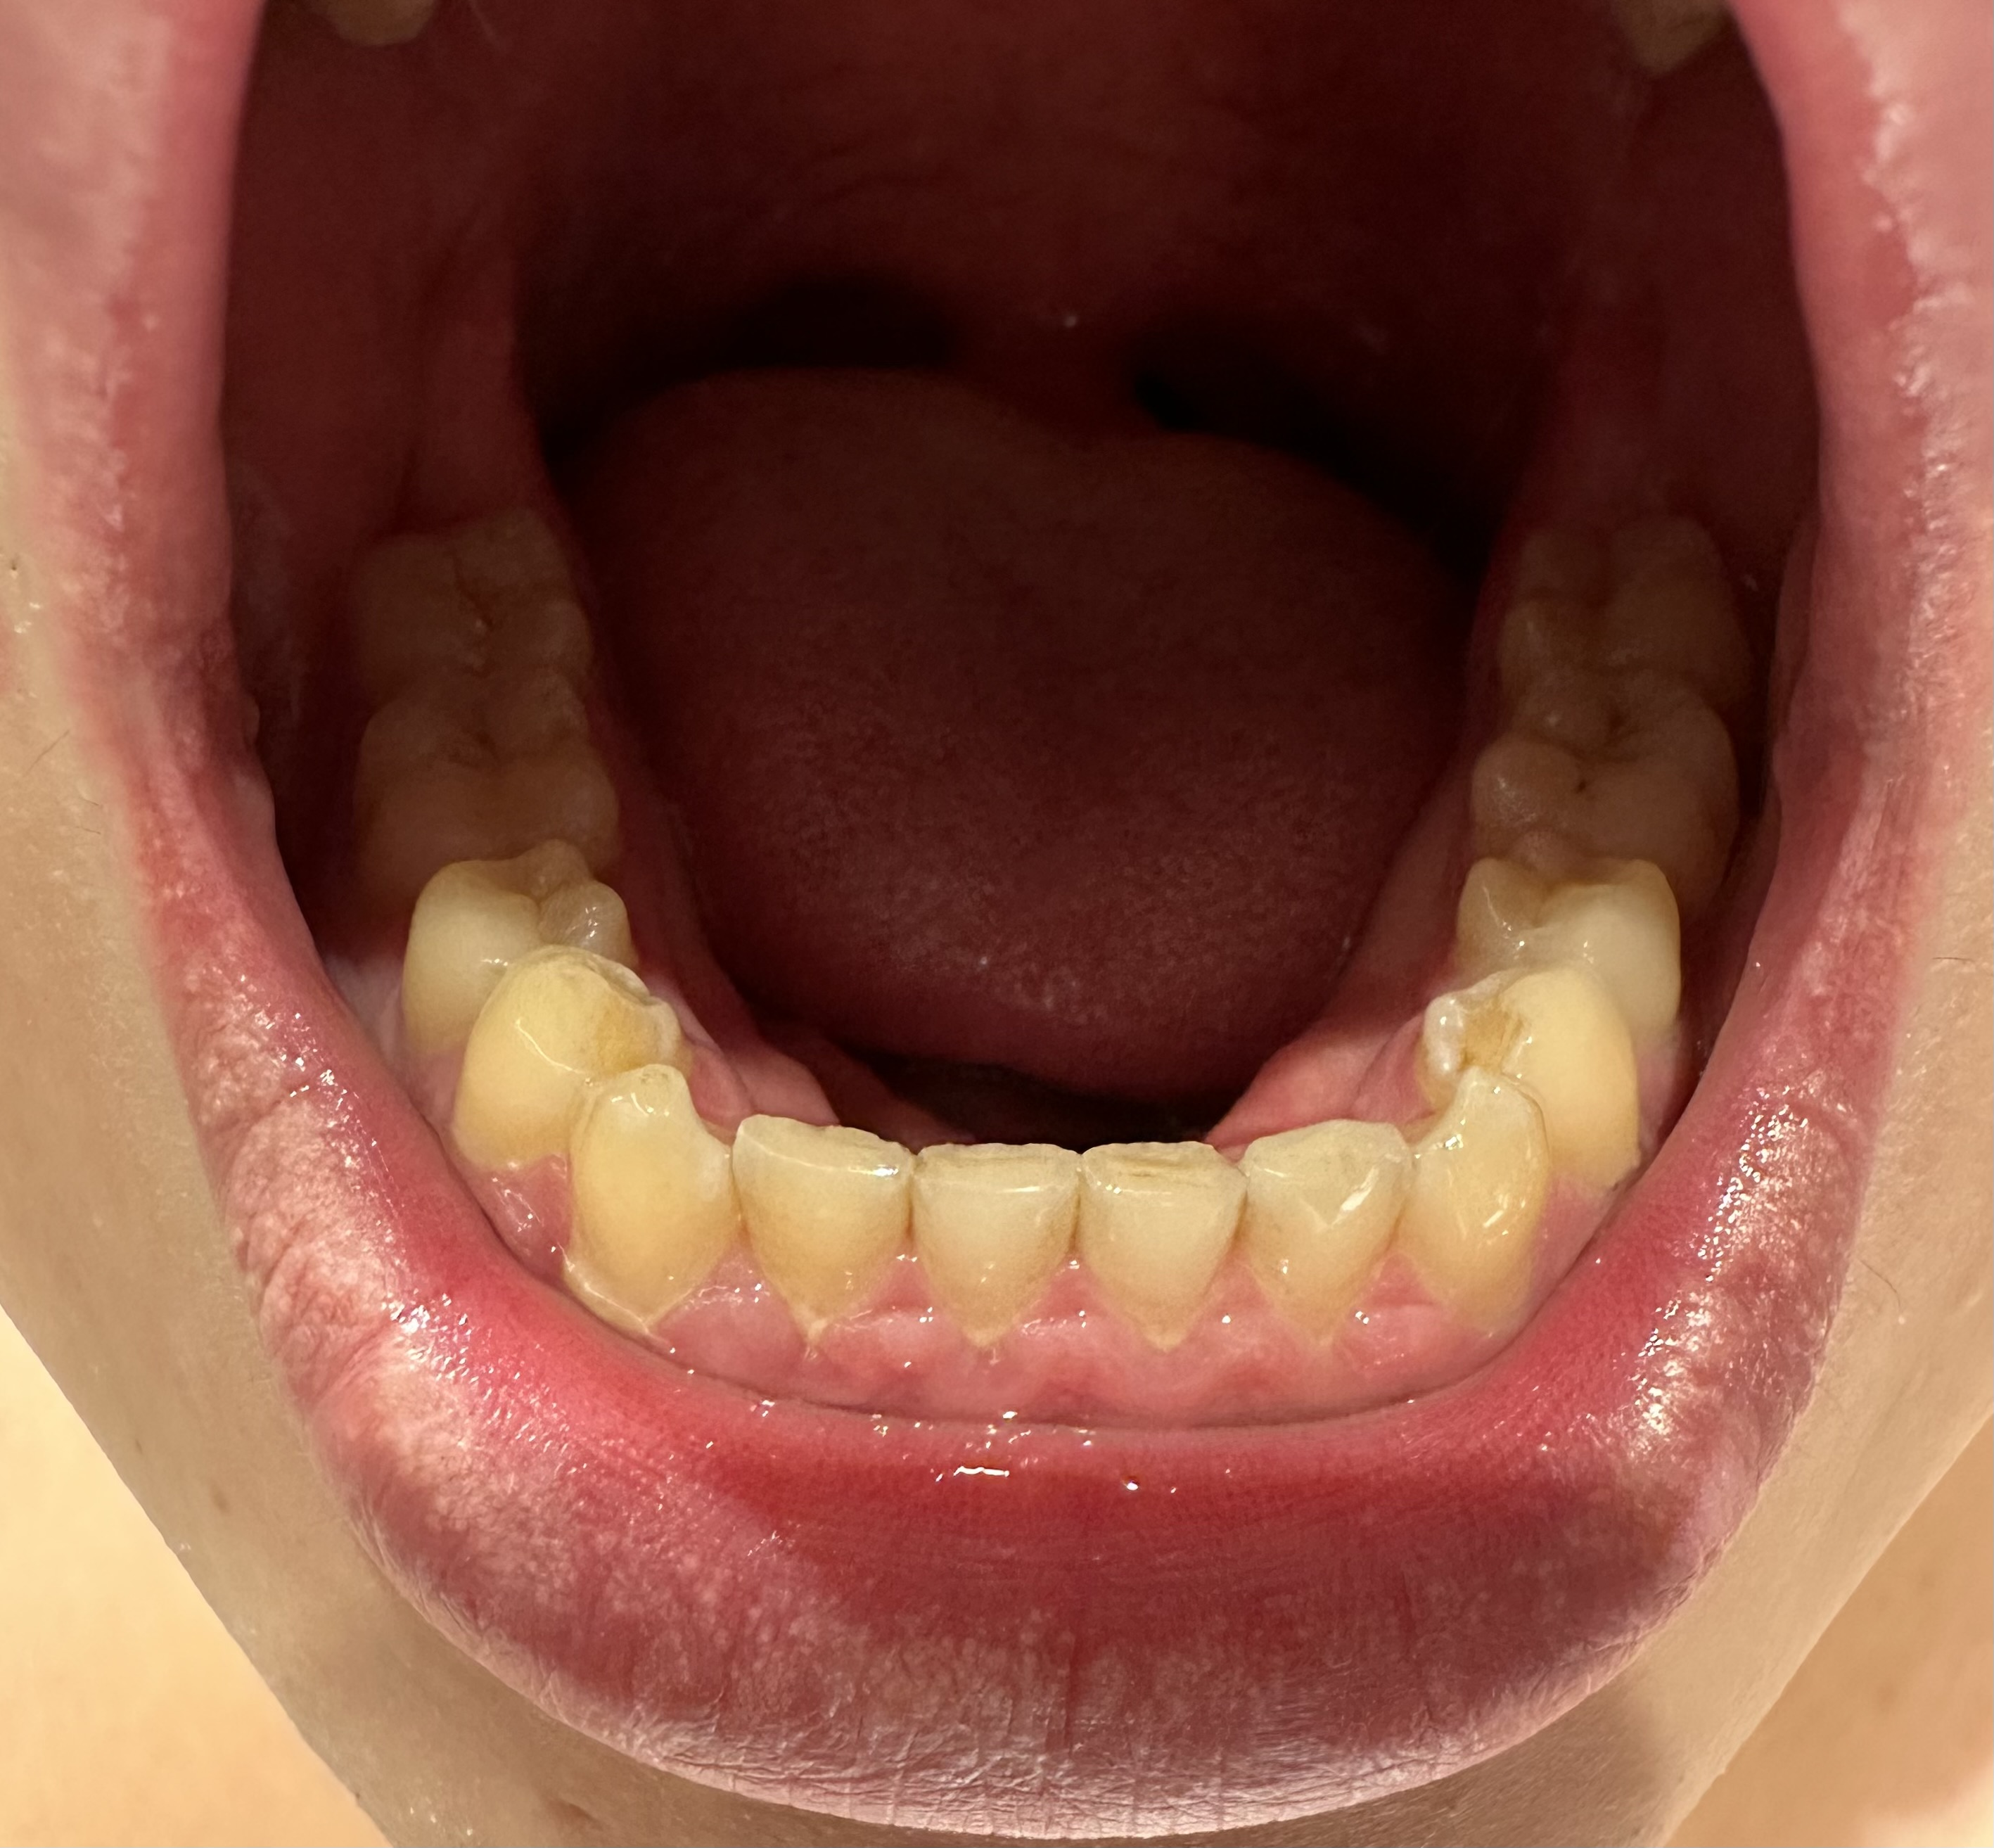teeth: (1473, 655, 1739, 914), (354, 674, 620, 884), (1449, 818, 1688, 1042), (1499, 502, 1753, 707), (1426, 964, 1640, 1185), (455, 964, 676, 1172), (401, 858, 634, 1054), (344, 509, 596, 670), (566, 1087, 731, 1320), (1409, 1066, 1553, 1308), (738, 1113, 903, 1320), (915, 1138, 1077, 1346), (1082, 1136, 1242, 1343), (1249, 1129, 1402, 1344)
